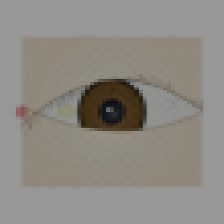pinguecula_lesion: (47, 96, 85, 126)
